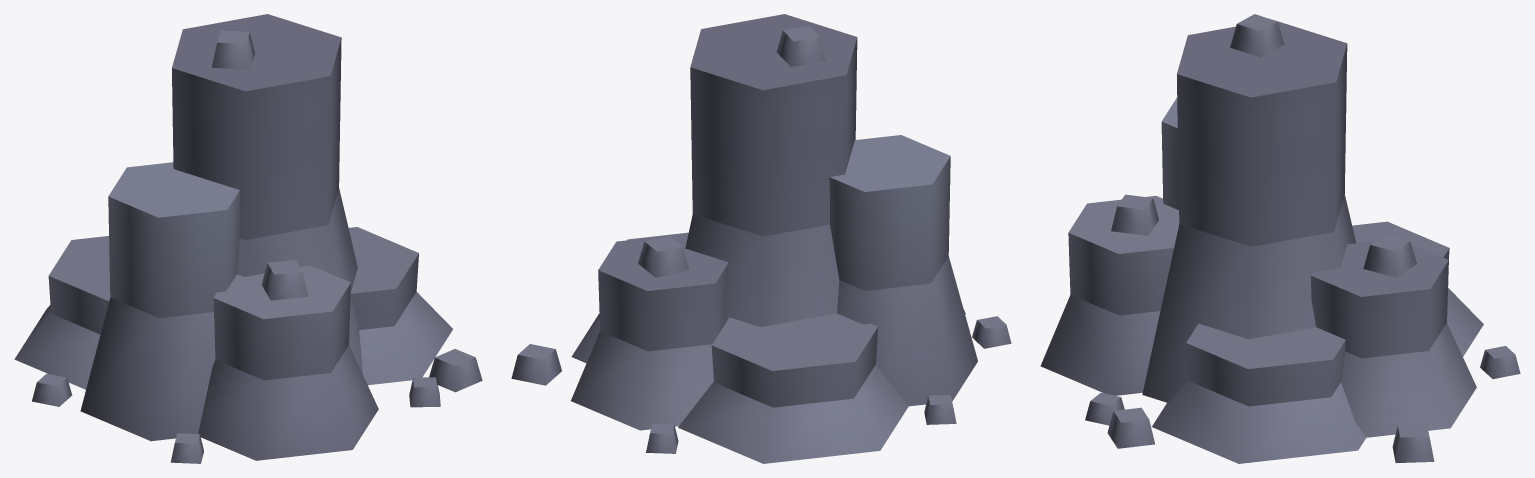
File: kenney-pirate-kit-rocks-b.glb
3 renders of one model, left to right at view 1: azimuth 30°, elevation 25°; view 2: azimuth 150°, elevation 25°; view 3: azimuth 270°, elevation 25°, orthographic. The views are drawn at different scales.
Visible parts, largest first — view 1: rocks-b; view 2: rocks-b; view 3: rocks-b.
Boxes of the visible parts, <box> form: rocks-b: <box>14,14,482,463</box>; rocks-b: <box>511,14,1011,463</box>; rocks-b: <box>1040,14,1520,463</box>.
Size of the model in its own units: 2.26 by 1.86 by 2.4.
Materials: 1 (1 with a texture image).
